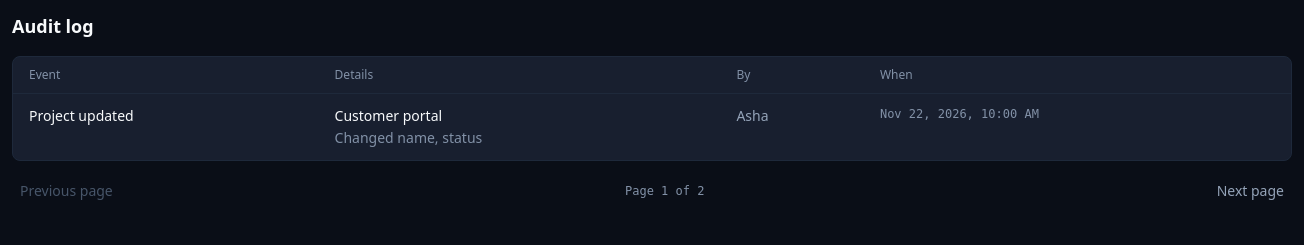
Test: AuditLogPage › paginates through the URL
The image size is (1304, 245).
Expected: the text "Project updated" is shown, [13,94,319,160]
Expected: the button "Previous page" is disabled, [12,177,121,205]
Step 1. Click the button "Next page" → (1250, 191), box [1209,177,1292,205]
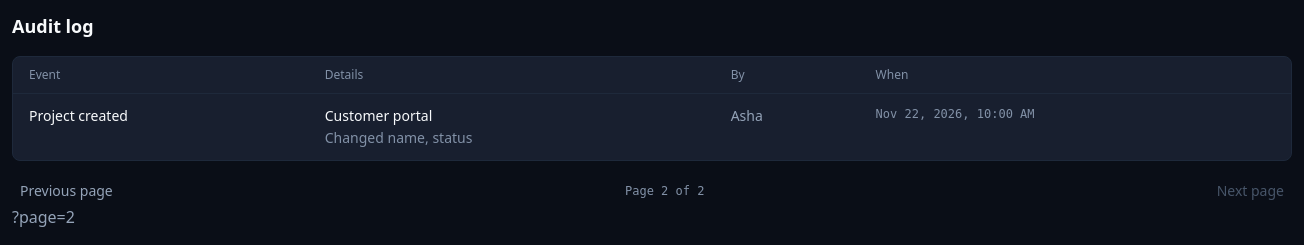
Expected: the text "Project created" is shown, [13,94,309,160]
Expected: the text with test id "search" reads "?page=2", [12,206,75,228]
Expected: the button "Next page" is disabled, [1209,177,1292,205]
